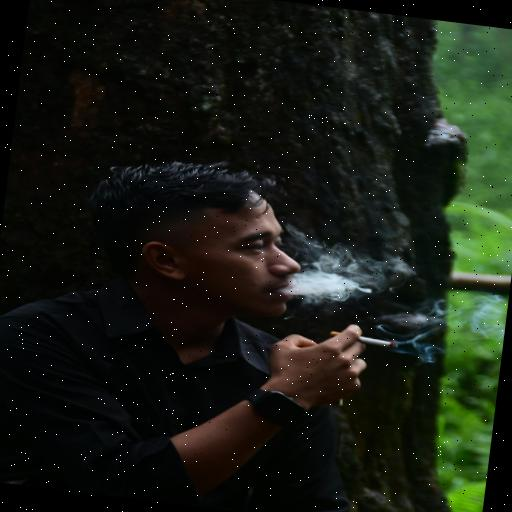asap rokok: (258, 222, 398, 337)
pegang rokok: (252, 300, 423, 418)
